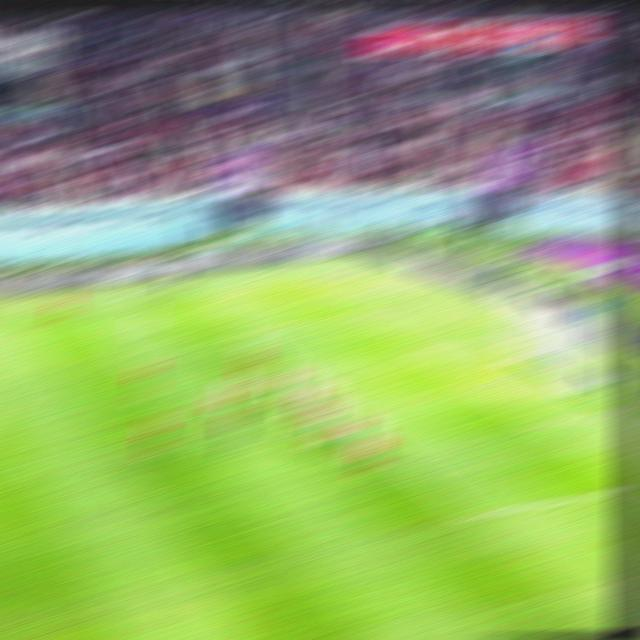bigarea_bottom_inner: (455, 502, 491, 527)
bigarea_top_inner: (230, 326, 259, 338)
bigarea_top_outter: (402, 300, 433, 312)
corner: (341, 269, 370, 279)
smallarea_bottom_inner: (525, 412, 558, 433)
smallarea_bottom_outter: (598, 403, 628, 419)
smallarea_top_inner: (406, 341, 436, 355)
smallarea_top_outter: (461, 333, 492, 345)
